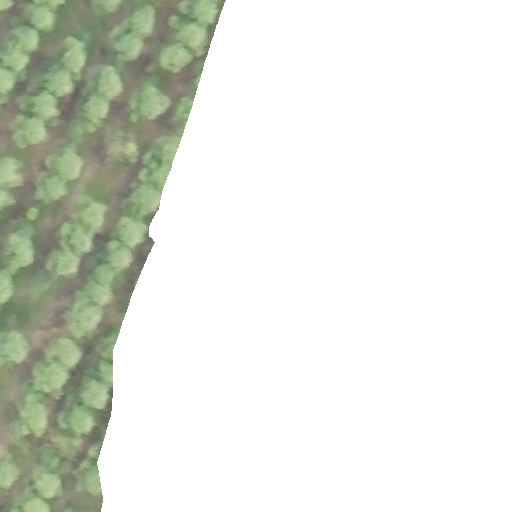eucalipto: (30, 358, 69, 396), (67, 296, 103, 337), (131, 86, 169, 121), (104, 130, 139, 168), (61, 221, 94, 257), (46, 338, 82, 371), (35, 171, 68, 206), (45, 248, 82, 278), (115, 215, 148, 248), (23, 5, 59, 35), (131, 185, 161, 221), (155, 43, 193, 71), (77, 377, 109, 410), (27, 91, 60, 122), (54, 148, 84, 182), (150, 133, 184, 163), (39, 67, 74, 96), (61, 405, 97, 433), (178, 21, 207, 54), (105, 237, 134, 270), (127, 5, 156, 37), (145, 164, 180, 190), (77, 202, 107, 232), (77, 96, 109, 124), (110, 34, 143, 61), (82, 280, 117, 305), (22, 114, 48, 147), (62, 38, 87, 72), (97, 70, 125, 99)
